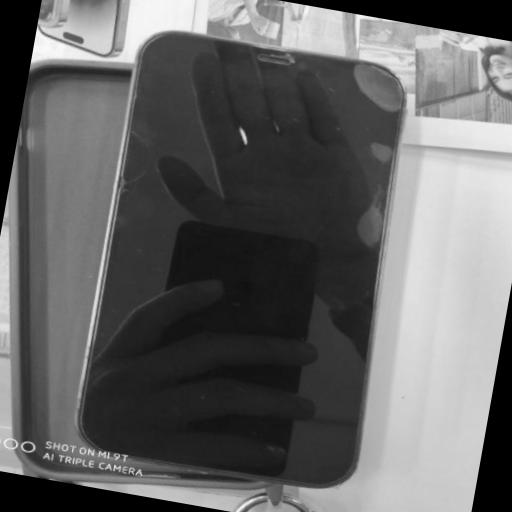phone: (78, 28, 415, 483)
